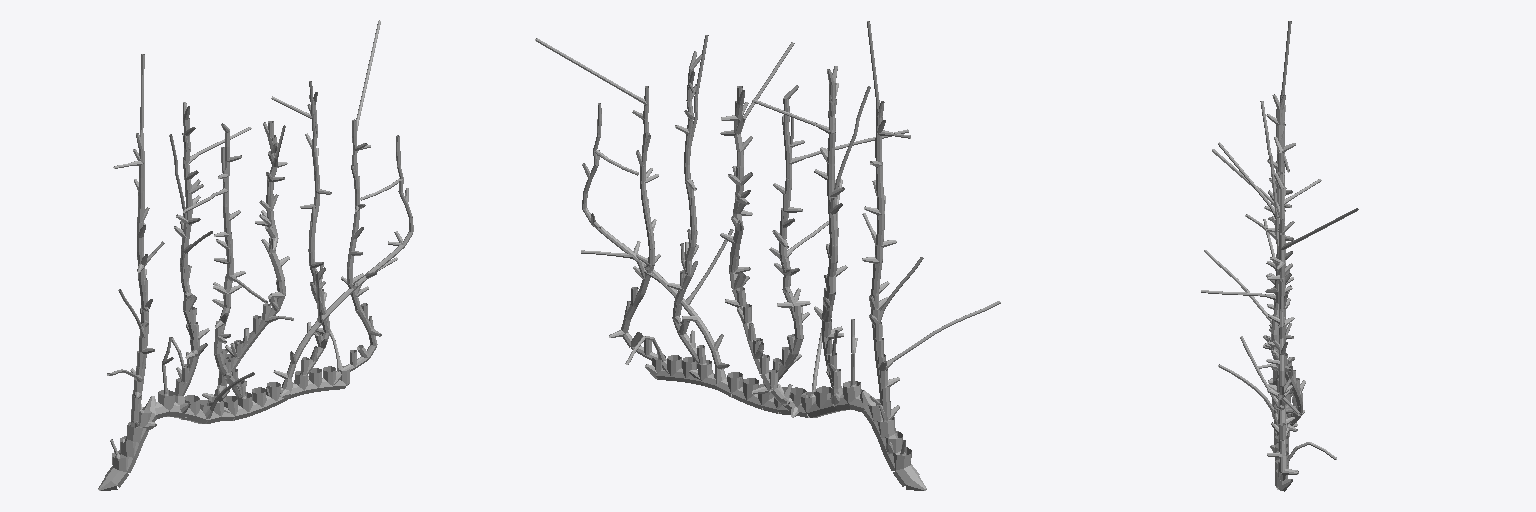
URDF robot description (ur5e):
<robot name="ur5e" xmlns:xacro="http://ros.org/wiki/xacro">
    <link name="tree">
        <visual>
        <geometry>
            <mesh filename="./meshes_and_urdf/meshes/trees/envy/train/tree_5.obj" scale="1 1 1"/>
        </geometry>
        <material name="LightGrey">
            <color rgba="0.7 0.7 0.7 1.0"/>
        </material>
        </visual>
        <collision concave = "true">
        <geometry>
            <mesh filename="./meshes_and_urdf/meshes/trees/envy/train/tree_5.obj" scale="1 1 1"/>
        </geometry>
        </collision>
        <inertial>
        <mass value="4.0"/>
        <origin rpy="0 0 0" xyz="0.0 0.0 0.0"/>
        <inertia ixx="0.00443333156" ixy="0.0" ixz="0.0" iyy="0.00443333156" iyz="0.0" izz="0.0072"/>
        </inertial>
    </link>
        <link name="world"/>
    <joint name="tree_joint" type="fixed">
        <parent link="world"/>
        <child link="tree"/>
        <origin rpy="0.0 0.0 0.0" xyz="0.0 0.0 0.0"/>
    </joint>
    </robot>

--- Facts derived from the render (not from the file) ---
3 views of the same robot in one strip: view 1: azimuth 30°, elevation 25°; view 2: azimuth 150°, elevation 25°; view 3: azimuth 270°, elevation 25° (orthographic).
Model ur5e with 2 links and 1 joints (1 fixed), rooted at world, posed every joint at zero.
Visible links, largest first — view 1: tree; view 2: tree; view 3: tree.
Link boxes in pixels (x1,y1,x2,y2): tree: (98, 20, 413, 490); tree: (535, 21, 1000, 490); tree: (1201, 21, 1358, 491).
Bounding box of the posed robot: 24.68 × 9.69 × 28.55 m (x, y, z).
Meshes: 1 distinct files referenced, 1 mesh visuals loaded (1 OBJ).